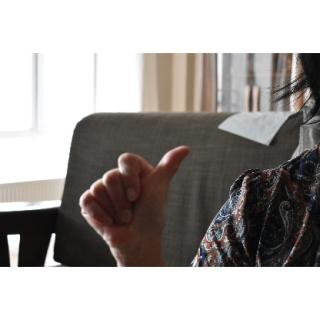DAD: (74, 140, 205, 256)
